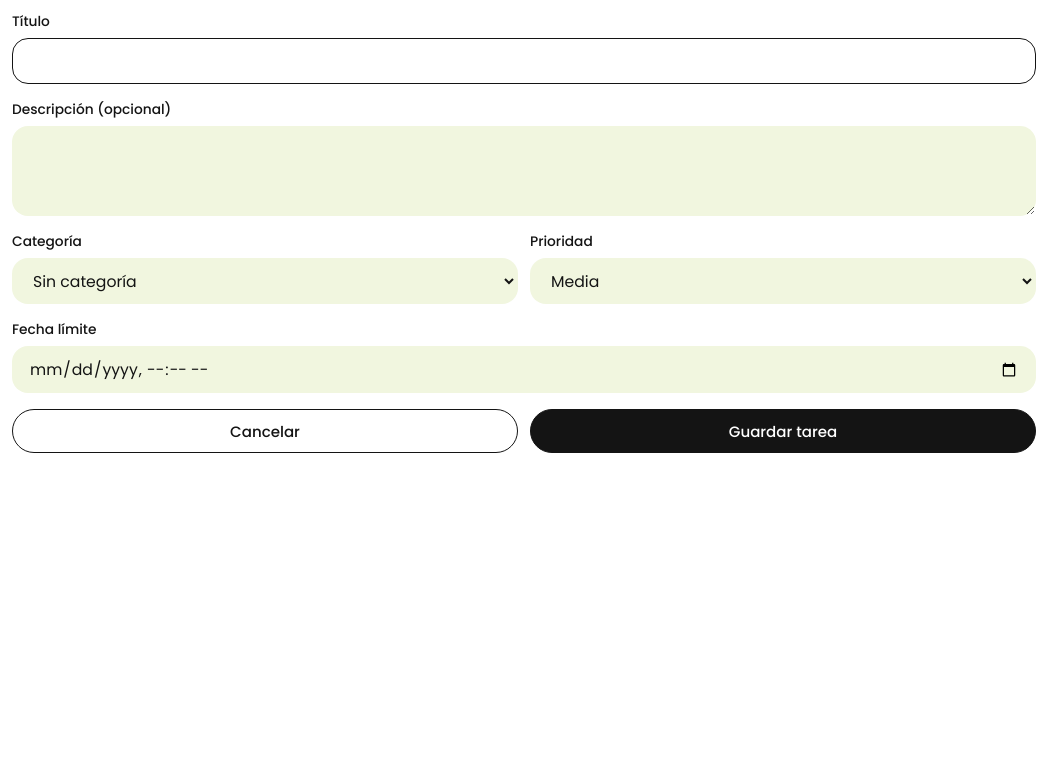
Scenario: TareaForm › muestra los errores que devuelve la API
Type "Algo" into the field labelled "Título".
click(524, 61); type("Algo")  # box 12,38 -> 1036,84
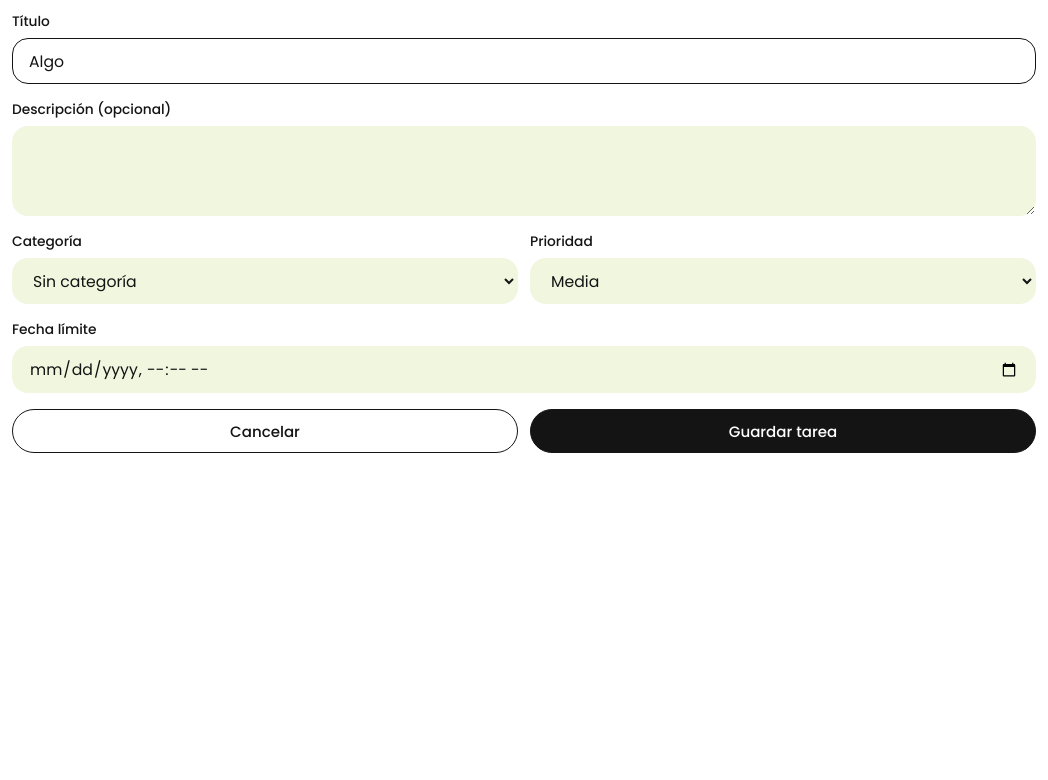
Click the button "Guardar tarea".
click(783, 431)  # box 530,409 -> 1036,453
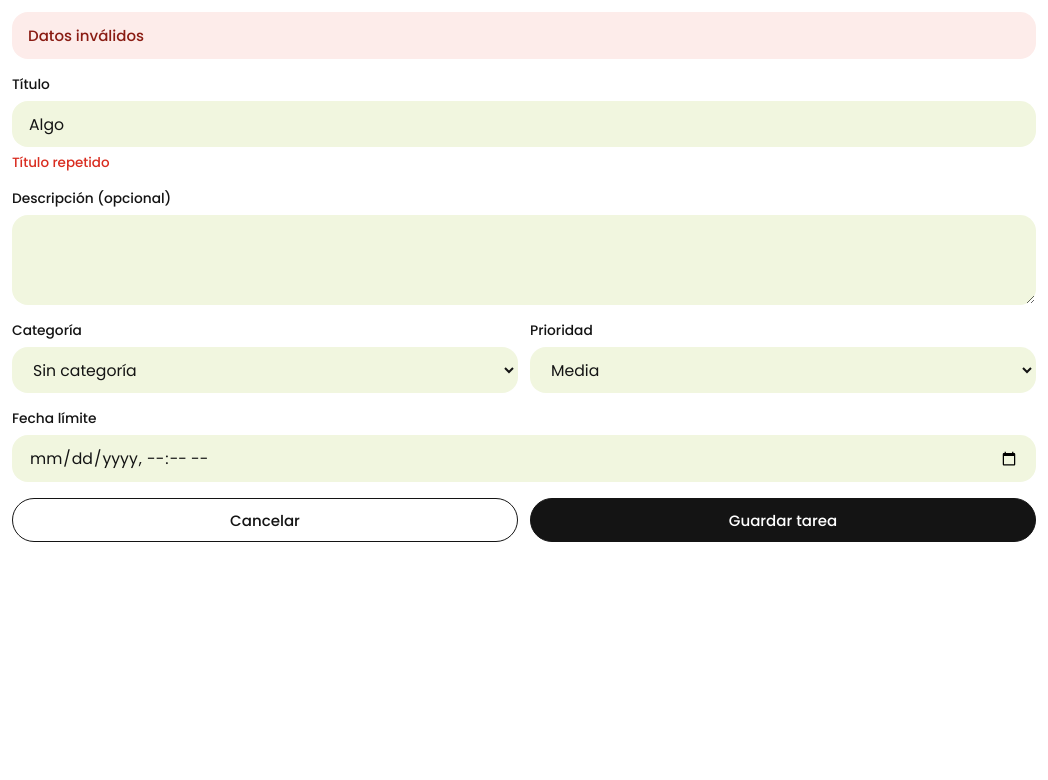
Expected: the text "Título repetido" is shown, 12,153 -> 110,172
Expected: the text "Datos inválidos" is shown, 12,12 -> 1036,59
